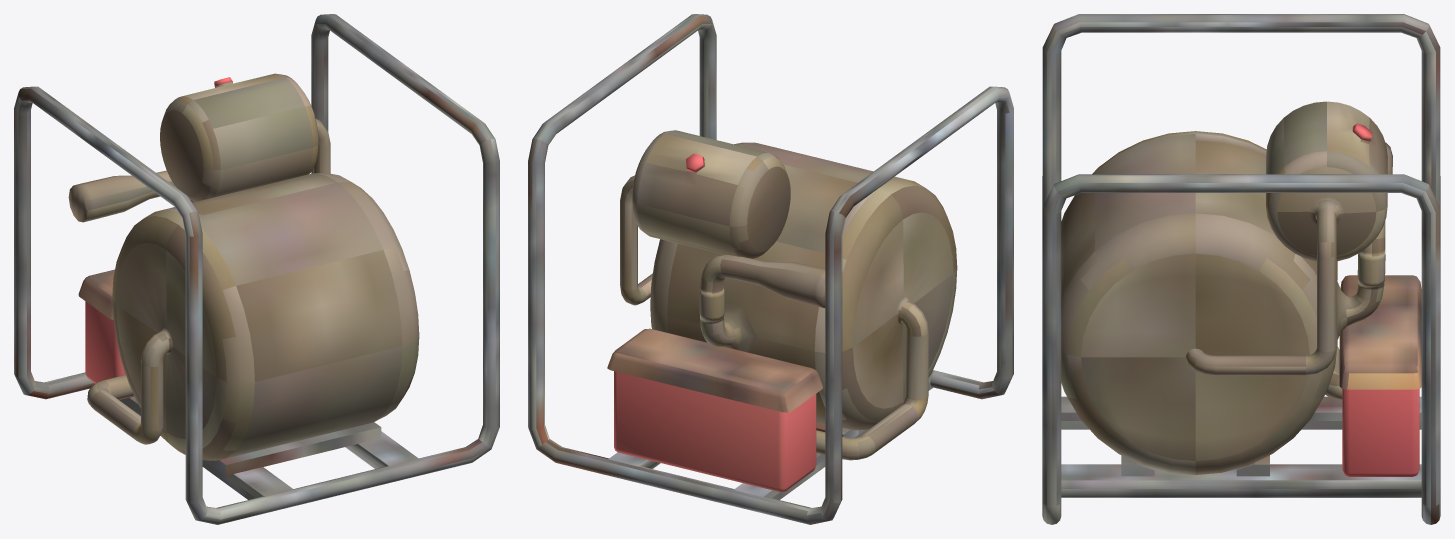
File: generator.fbx
The picture shows the model from 3 angles, left to right: view 1: azimuth 30°, elevation 25°; view 2: azimuth 150°, elevation 25°; view 3: azimuth 270°, elevation 25°; orthographic projection. The views are drawn at different scales.
Parts seen in each view (by area): view 1: Cube.003; view 2: Cube.003; view 3: Cube.003.
Boxes of the visible parts, bbox=[...] form: Cube.003: bbox=[14, 14, 499, 524]; Cube.003: bbox=[528, 14, 1013, 524]; Cube.003: bbox=[1042, 14, 1440, 524].
Size of the model in its own units: 210 by 210 by 210.
Materials: 4 (4 with a texture image).
